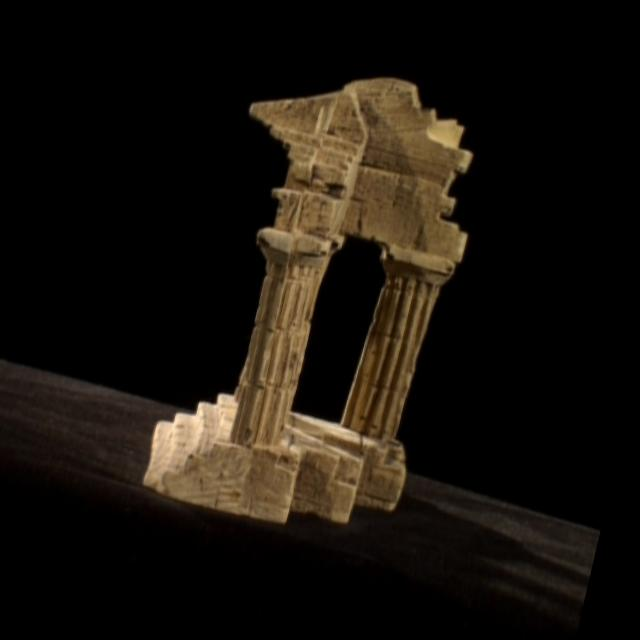Instance-Segmentation: (146, 78, 471, 521)
